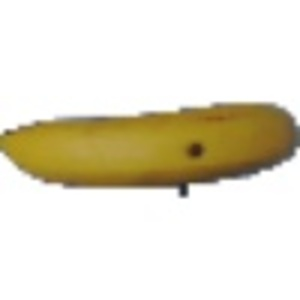banana: (4, 98, 298, 189)
